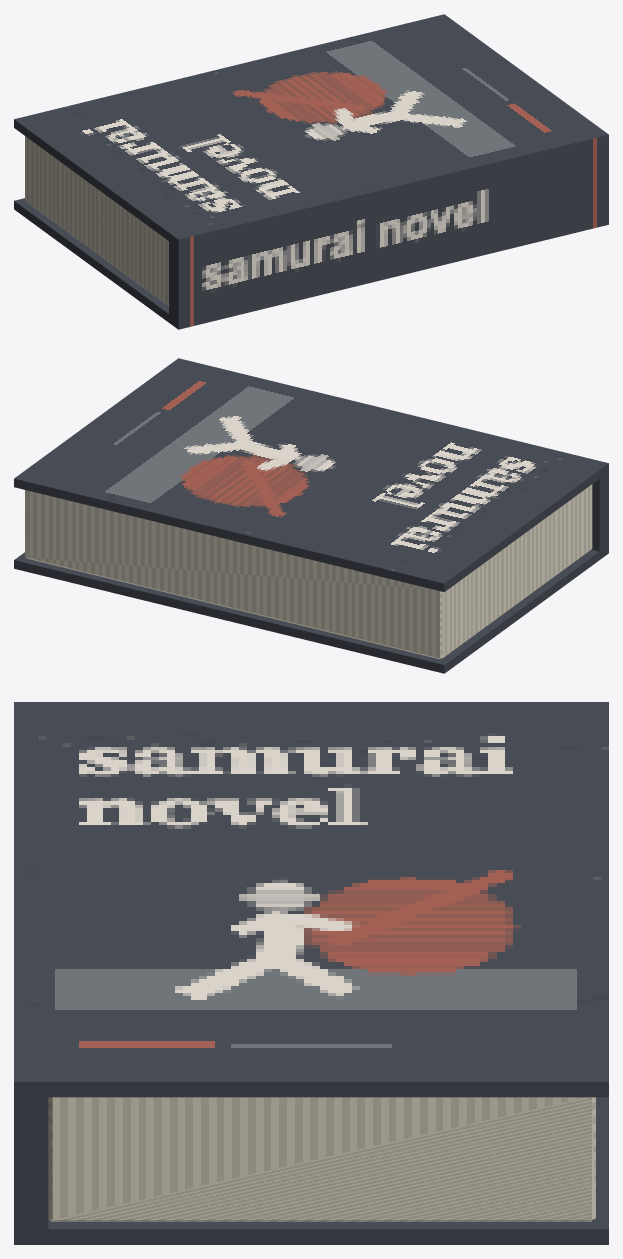
Rendered from novel_samurai.glb.
3 views of the same model, one above another, from view 1: azimuth 30°, elevation 25°; view 2: azimuth 150°, elevation 25°; view 3: azimuth 270°, elevation 25° (orthographic). The views are drawn at different scales.
Parts seen in each view (by area): view 1: block_front, block_spine, block_pages, block_back; view 2: block_front, block_pages, block_back, block_spine; view 3: block_front, block_pages, block_spine, block_back.
Part boxes in pixels (bbox=[...]): block_front: bbox=[14, 14, 606, 245]; block_spine: bbox=[169, 127, 608, 329]; block_pages: bbox=[25, 136, 168, 305]; block_back: bbox=[14, 198, 175, 327]; block_front: bbox=[14, 360, 606, 592]; block_pages: bbox=[25, 484, 592, 659]; block_back: bbox=[14, 547, 606, 673]; block_spine: bbox=[173, 358, 608, 554]; block_front: bbox=[22, 702, 608, 1097]; block_pages: bbox=[48, 1097, 595, 1221]; block_spine: bbox=[14, 702, 48, 1244]; block_back: bbox=[22, 1097, 608, 1244].
Bounding box in the file's own units: 0.22 × 0.044 × 0.1456.
1 material, 1 textured.
